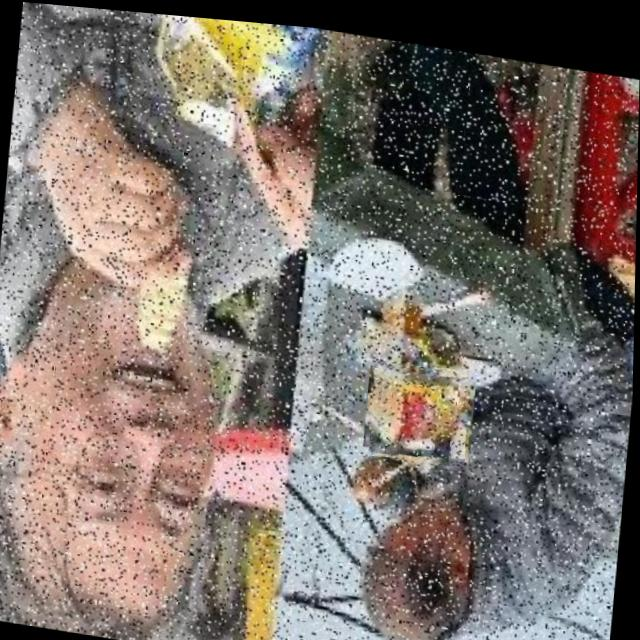Miscellaneous: (368, 349, 472, 459)
